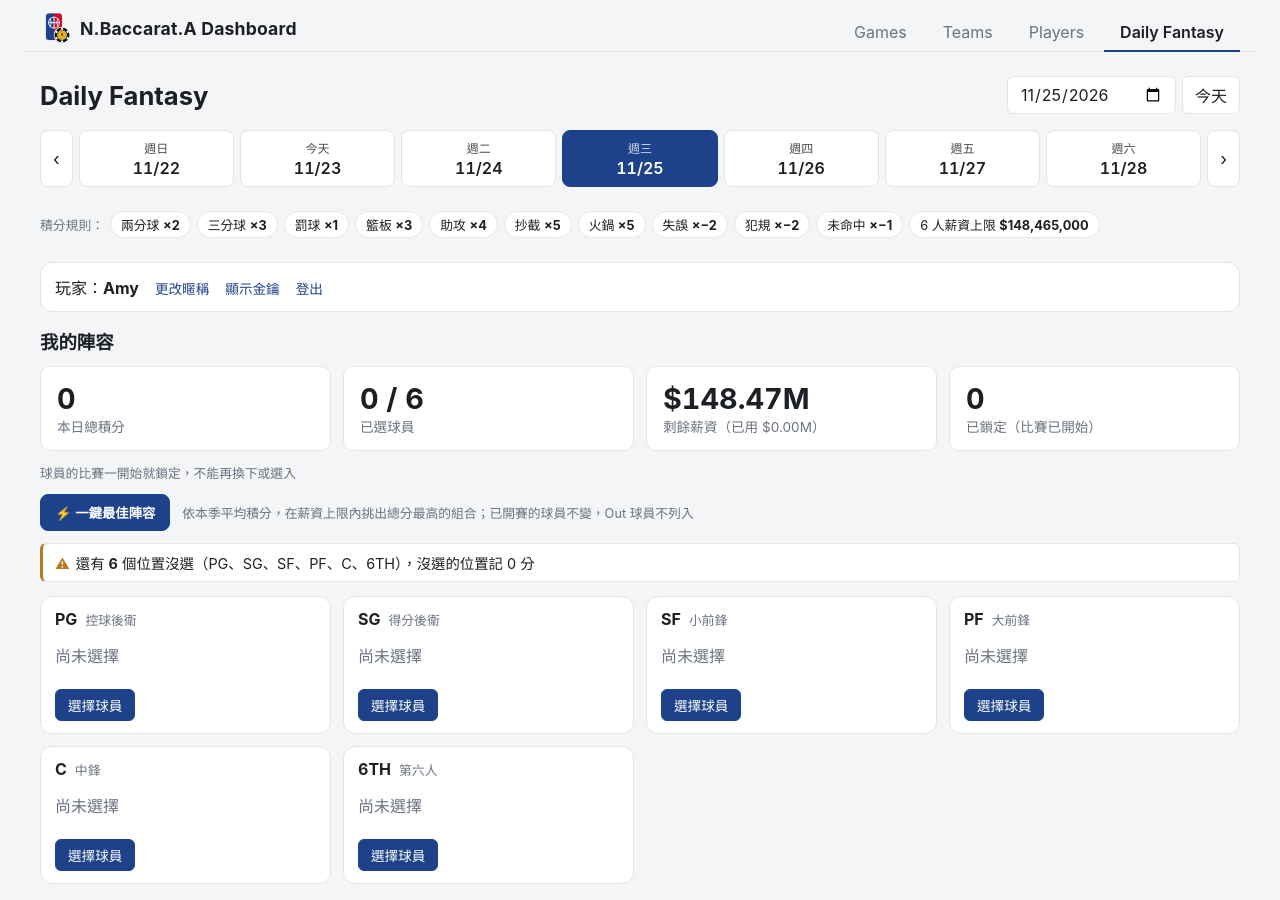
Test case: the best lineup button fills the lineup with my token
Click the button "⚡ 一鍵最佳陣容" at (105, 512), box [40,494,170,531]
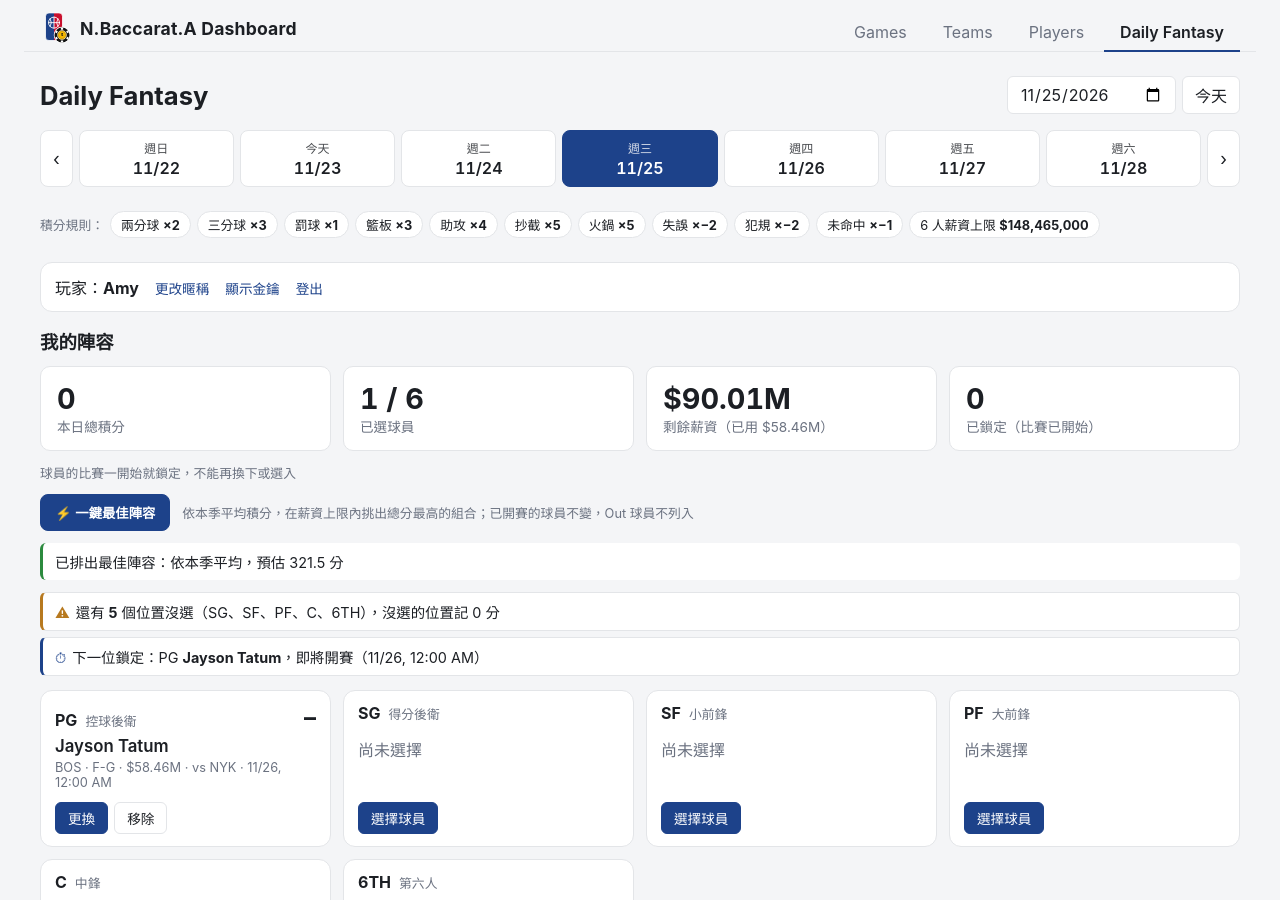
Check: the text "已排出最佳陣容：依本季平均，預估 321.5 分" is shown, box [40,543,1240,580]
Check: the text "Jayson Tatum" below "控球後衛" is shown, box [55,736,169,756]
